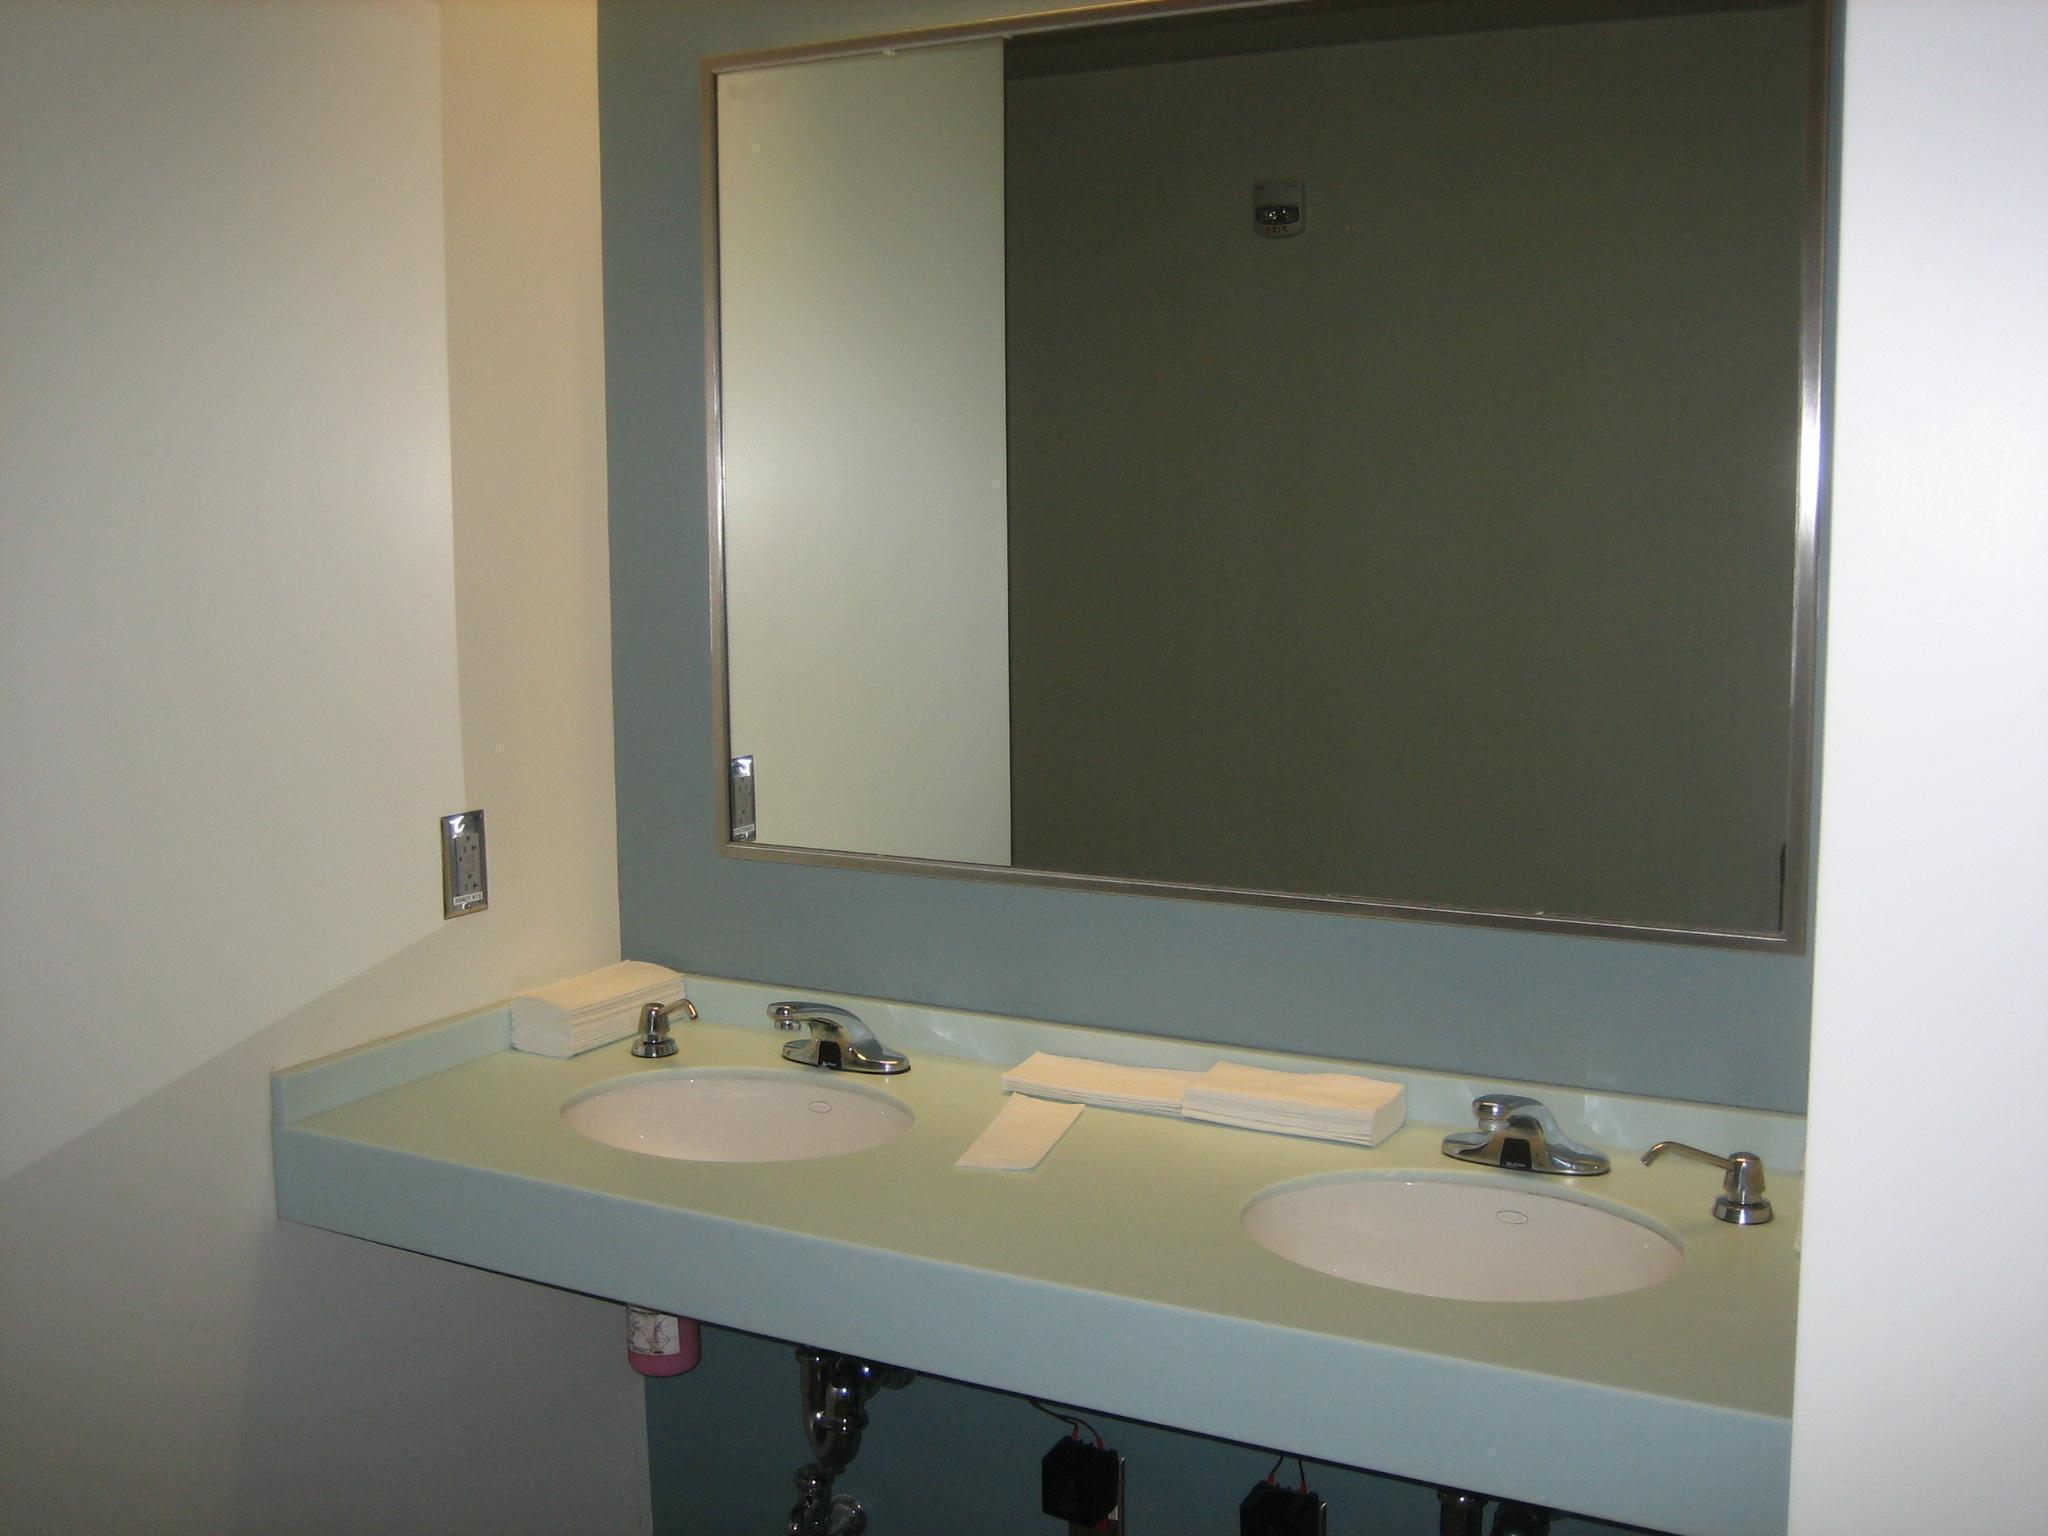Lavamanos: (1206, 1029, 1709, 1346), (561, 966, 921, 1223)
